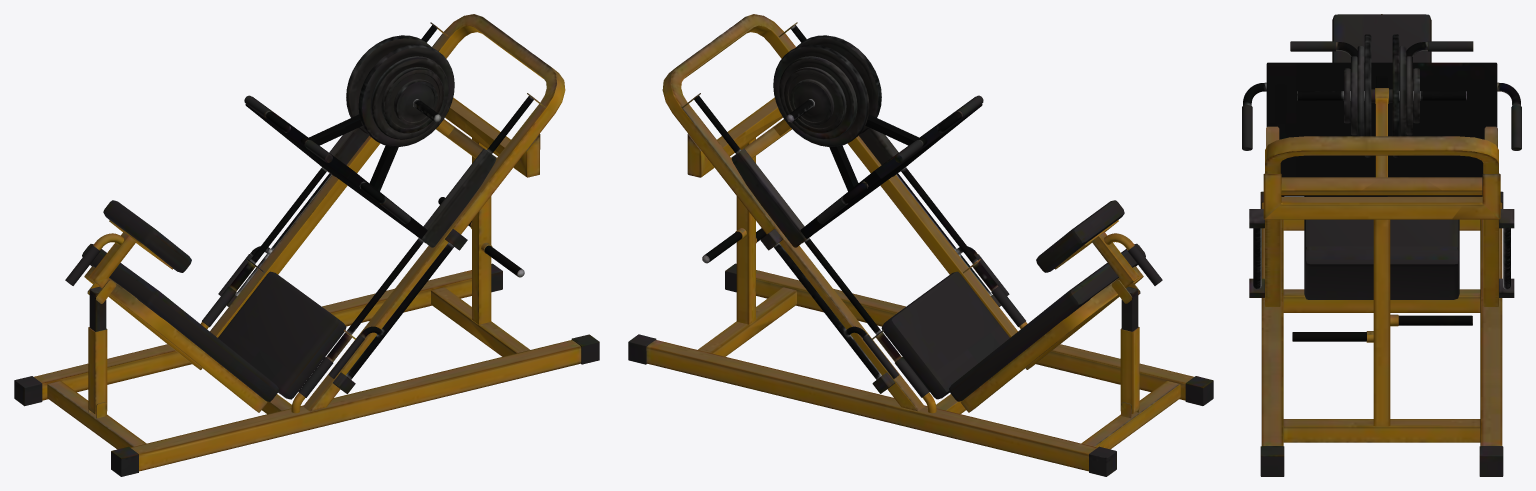
The model's file is sport_presse.glb.
The picture shows the model from 3 angles, left to right: view 1: azimuth 30°, elevation 25°; view 2: azimuth 150°, elevation 25°; view 3: azimuth 270°, elevation 25°; orthographic projection. The views are drawn at different scales.
Visible parts, largest first — view 1: Main_Frame_NewMat01_0; view 2: Main_Frame_NewMat01_0; view 3: Main_Frame_NewMat01_0.
Boxes of the visible parts, left/top/right/bottom form: Main_Frame_NewMat01_0: left=14, top=14, right=599, bottom=476; Main_Frame_NewMat01_0: left=628, top=14, right=1213, bottom=476; Main_Frame_NewMat01_0: left=1242, top=14, right=1521, bottom=476.
Size of the model in its own units: 2.7 by 1.7 by 1.21.
Materials: 1 (1 with a texture image).
